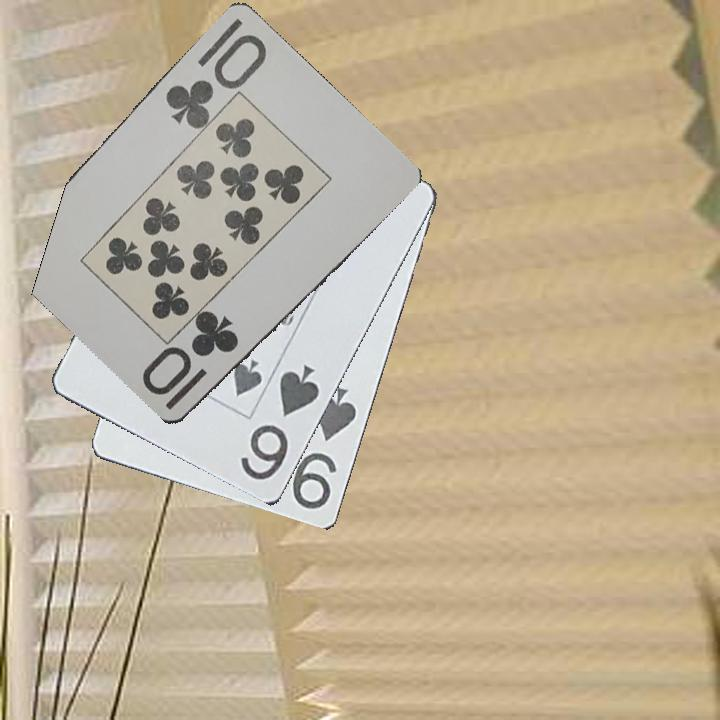6s: (237, 361, 324, 484)
9s: (288, 383, 360, 513)
Tc: (161, 15, 271, 133), (140, 309, 242, 414)
